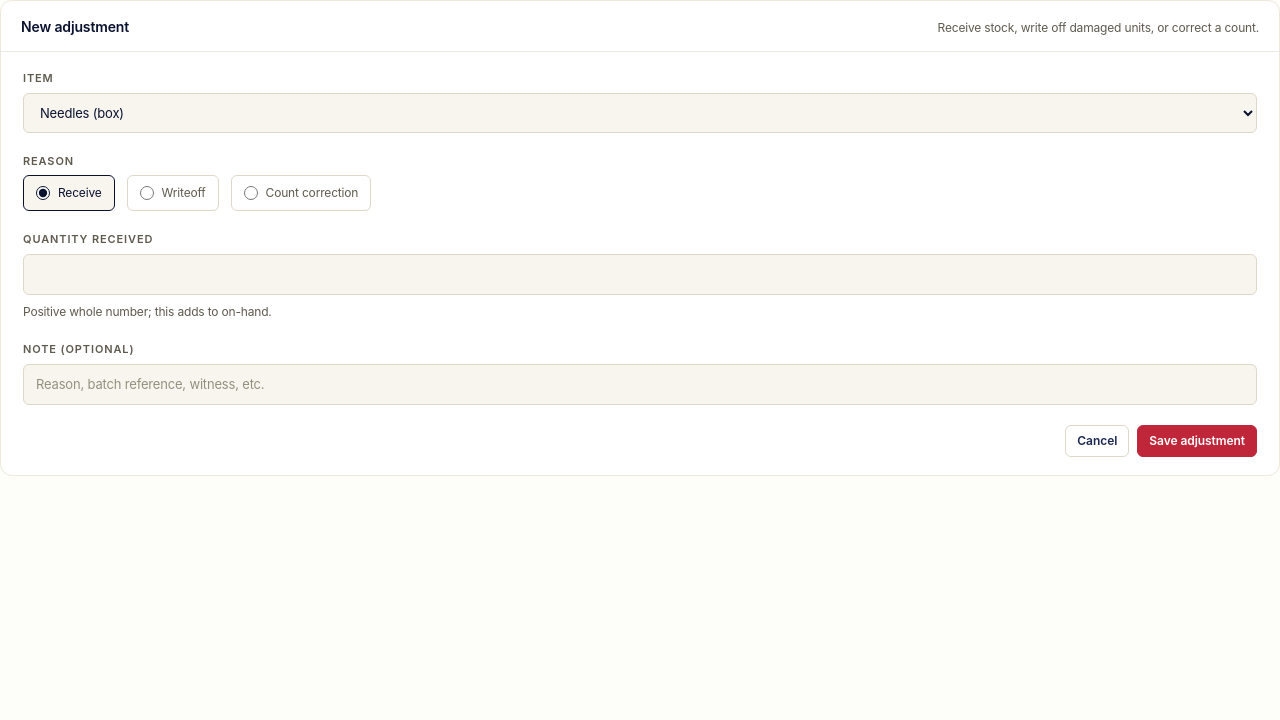
Phase-09 §8 component-render: AdjustForm (dir=ltr) › renders the success chip and clears delta + note on a successful submit
Type "5" into the number field with id "adjust-delta".
click(640, 274); type("5")  # box [23,254,1257,295]
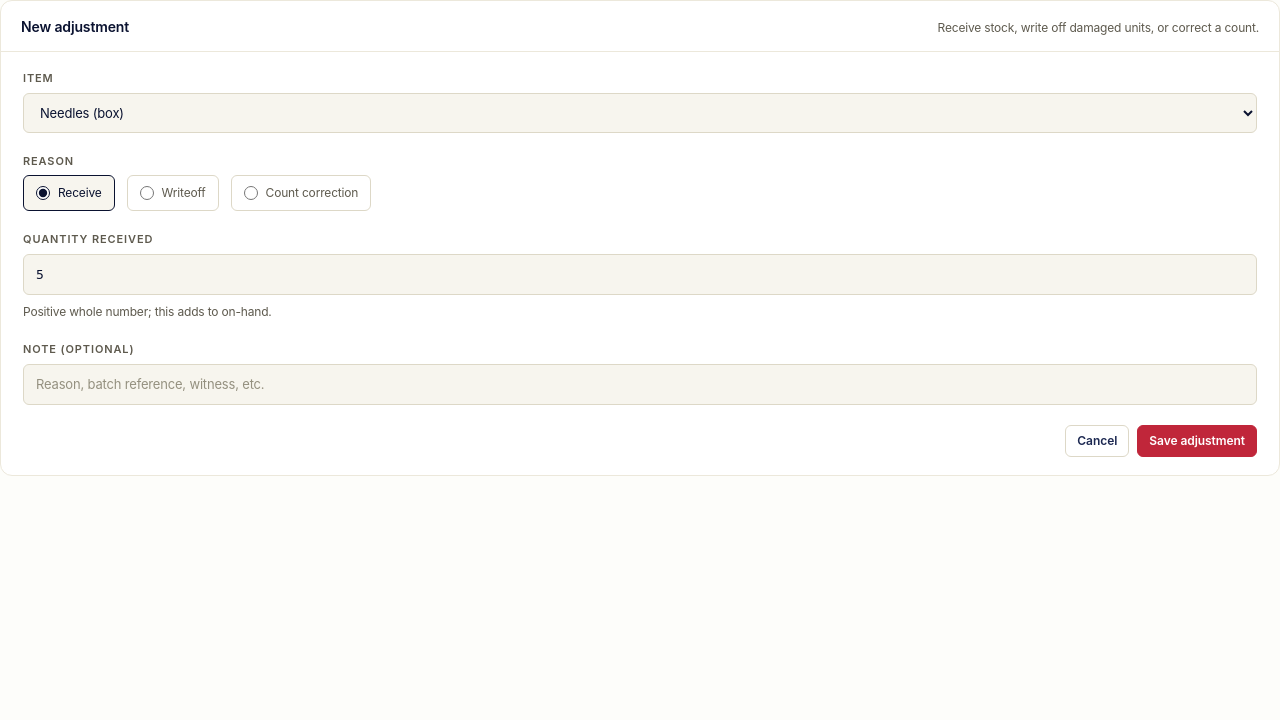
Type "batch-7" into the field with id "adjust-note".
click(640, 384); type("batch-7")  # box [23,364,1257,405]
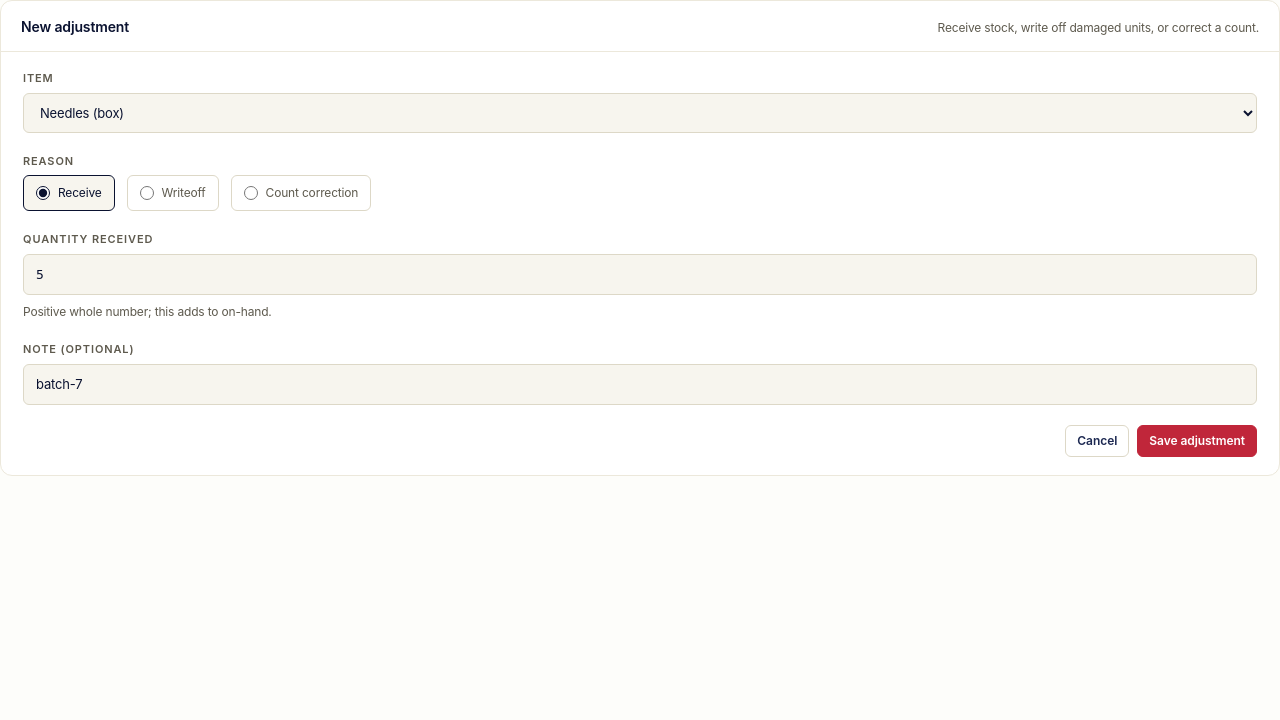
Submit the form
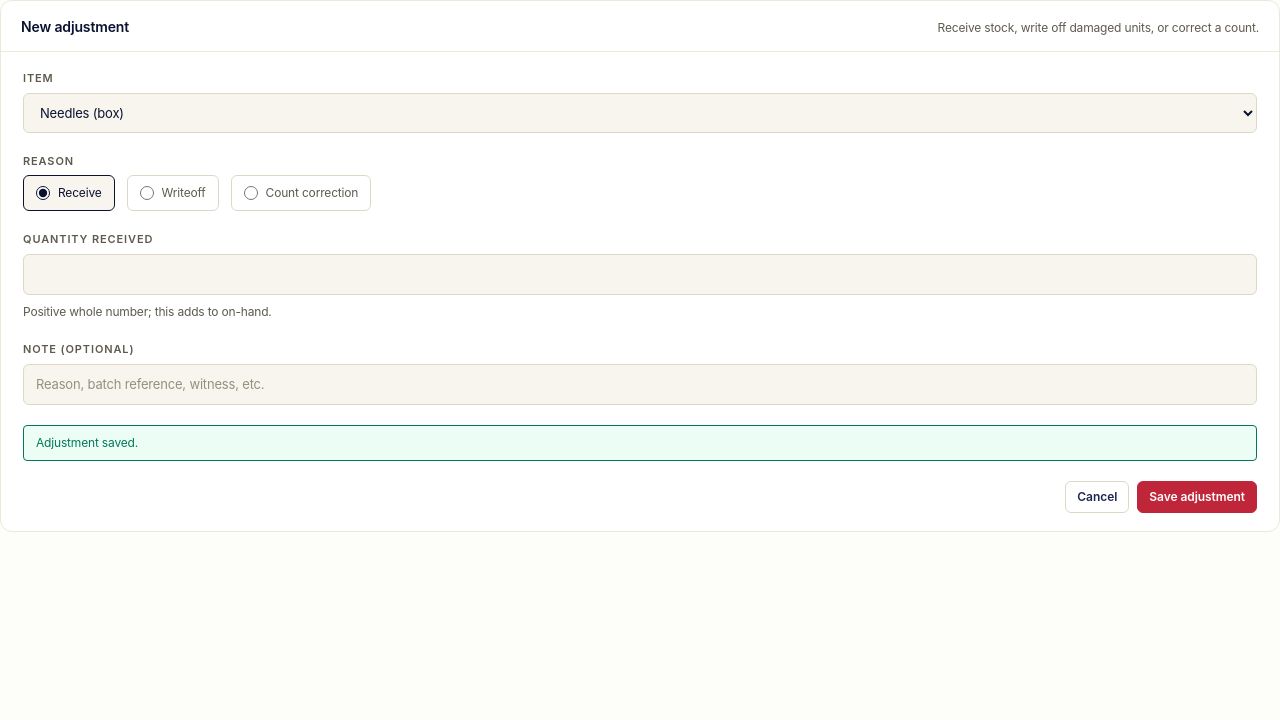
expect the form shows "Adjustment saved.": met, box [36,435,138,450]
expect the number field with id "adjust-delta" is empty: met, box [23,254,1257,295]
expect the field with id "adjust-note" is empty: met, box [23,364,1257,405]
